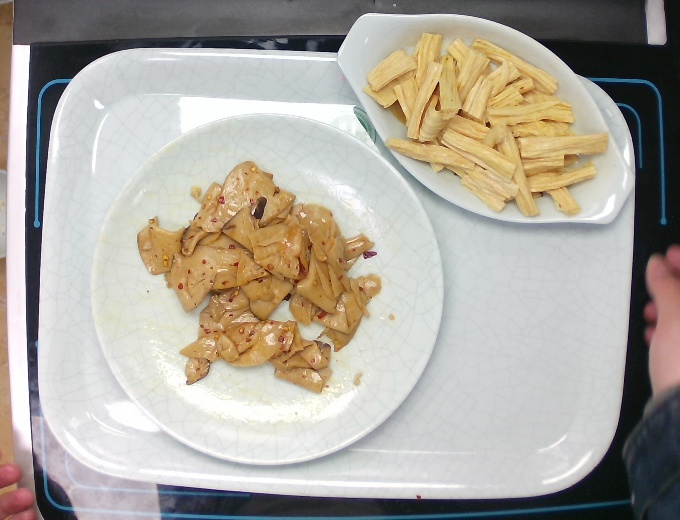JYsf-Da_Yuan_Pan: (80, 106, 457, 476)
JYsf-Yu_Pan: (330, 5, 639, 232)
